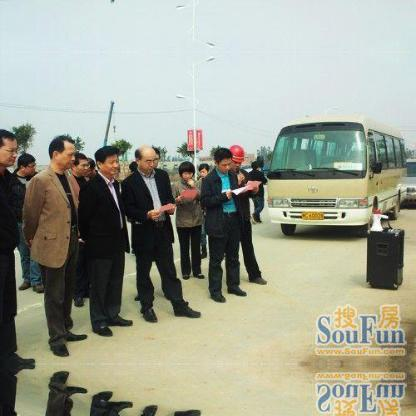head: (46, 133, 75, 171), (93, 144, 121, 180), (133, 142, 160, 175), (0, 125, 19, 166), (15, 151, 37, 180), (68, 150, 89, 179), (212, 145, 232, 174), (175, 158, 194, 182), (197, 160, 211, 179)
helmet: (229, 141, 247, 172)
